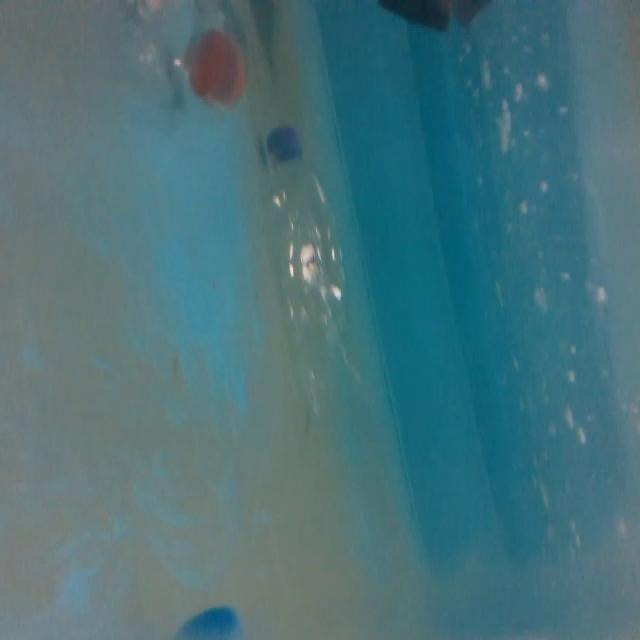plastic bottle: (253, 119, 374, 431)
